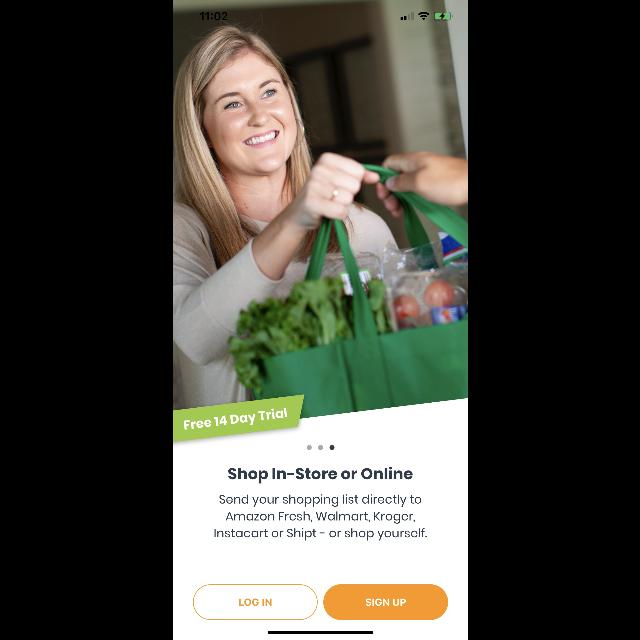backgroundimage: (172, 1, 468, 443)
pageindicator: (306, 446, 334, 450)
text: (214, 494, 426, 540), (228, 466, 412, 484)
textbutton: (322, 584, 448, 620), (192, 584, 316, 620)
uppertaskbar: (200, 12, 452, 21)
